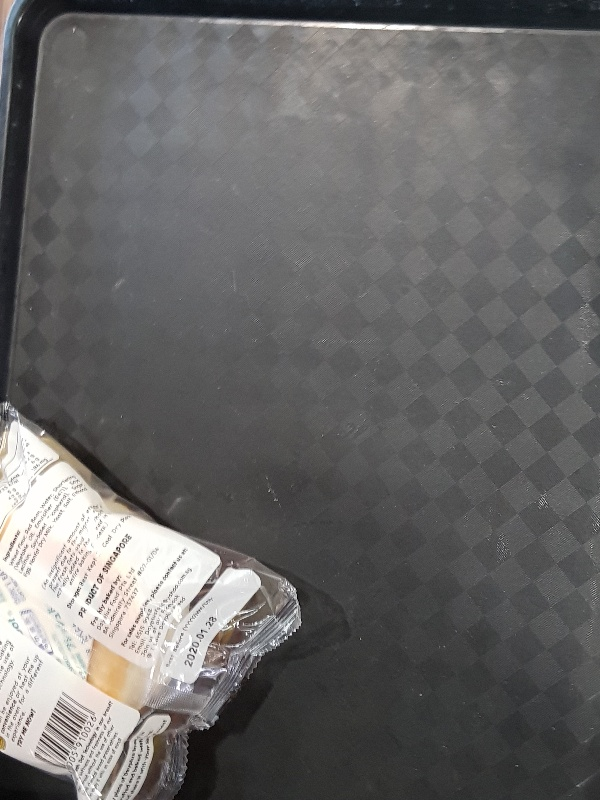Dayplus Red Bean: (1, 396, 303, 800)
